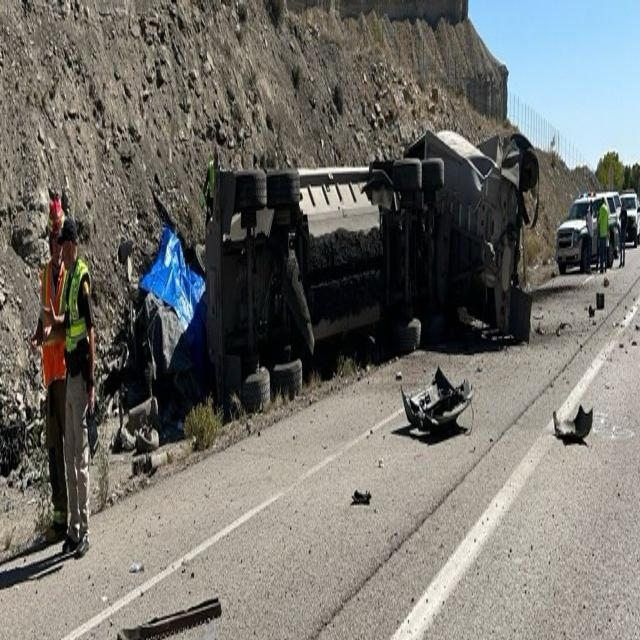Accident: (202, 123, 542, 415)
